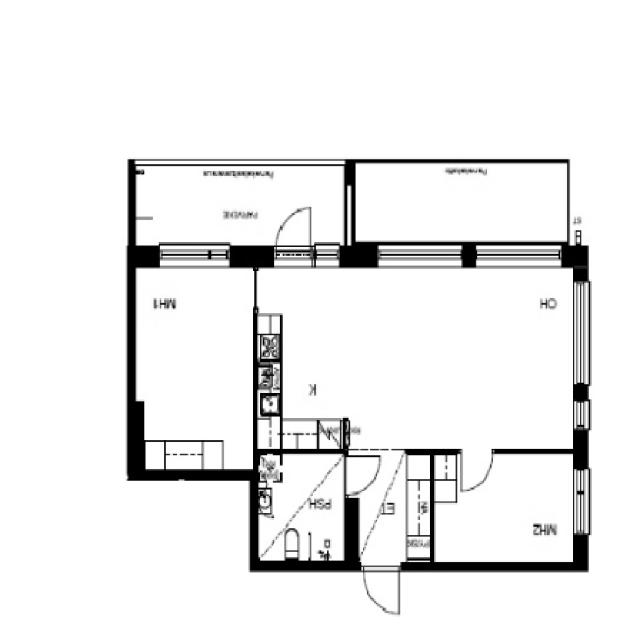door: (270, 203, 314, 253), (360, 563, 402, 615), (341, 452, 385, 499), (457, 448, 496, 495)
window: (566, 274, 598, 390), (469, 238, 565, 273), (370, 240, 466, 271), (153, 239, 237, 270), (571, 468, 593, 541), (571, 396, 593, 432), (313, 243, 342, 269)
zone: (250, 264, 550, 450), (134, 261, 256, 471), (432, 450, 581, 568), (255, 452, 348, 564), (350, 454, 435, 566)
